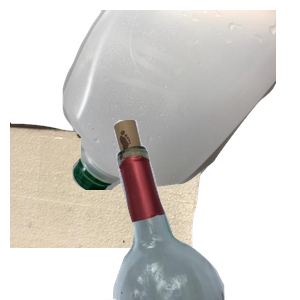glass: (89, 120, 300, 300)
metal: (68, 31, 288, 211)
plastic: (60, 10, 300, 190)
trash: (10, 120, 207, 300)
